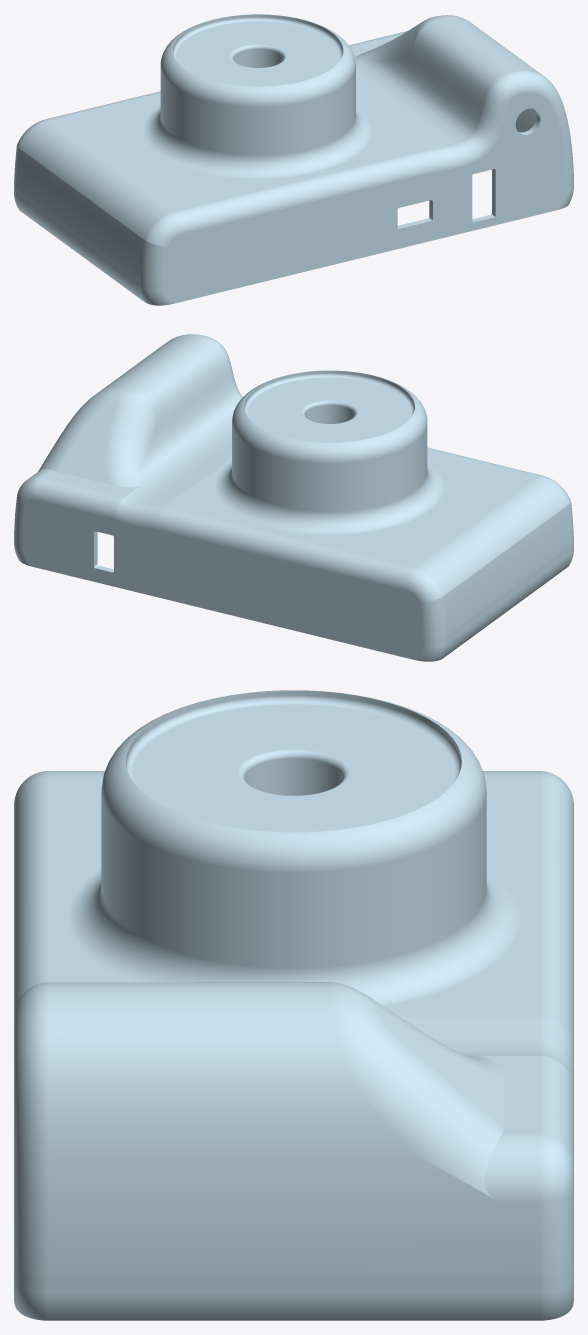
The model's file is acam.gltf.
3 renders of one model, top to bottom at view 1: azimuth 30°, elevation 25°; view 2: azimuth 150°, elevation 25°; view 3: azimuth 270°, elevation 25°, orthographic. The views are drawn at different scales.
Parts seen in each view (by area): view 1: Part 1; view 2: Part 1; view 3: Part 1.
Part boxes in pixels (left/top/right/bottom): Part 1: left=14, top=14, right=573, bottom=305; Part 1: left=14, top=334, right=573, bottom=661; Part 1: left=14, top=690, right=573, bottom=1320.
Bounding box in the file's own units: 0.14 × 0.0507 × 0.08.
